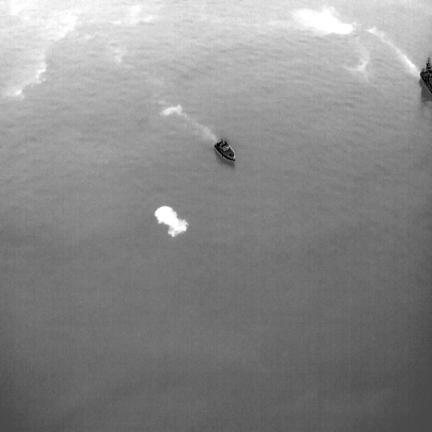flukeprints: (155, 206, 188, 236)
